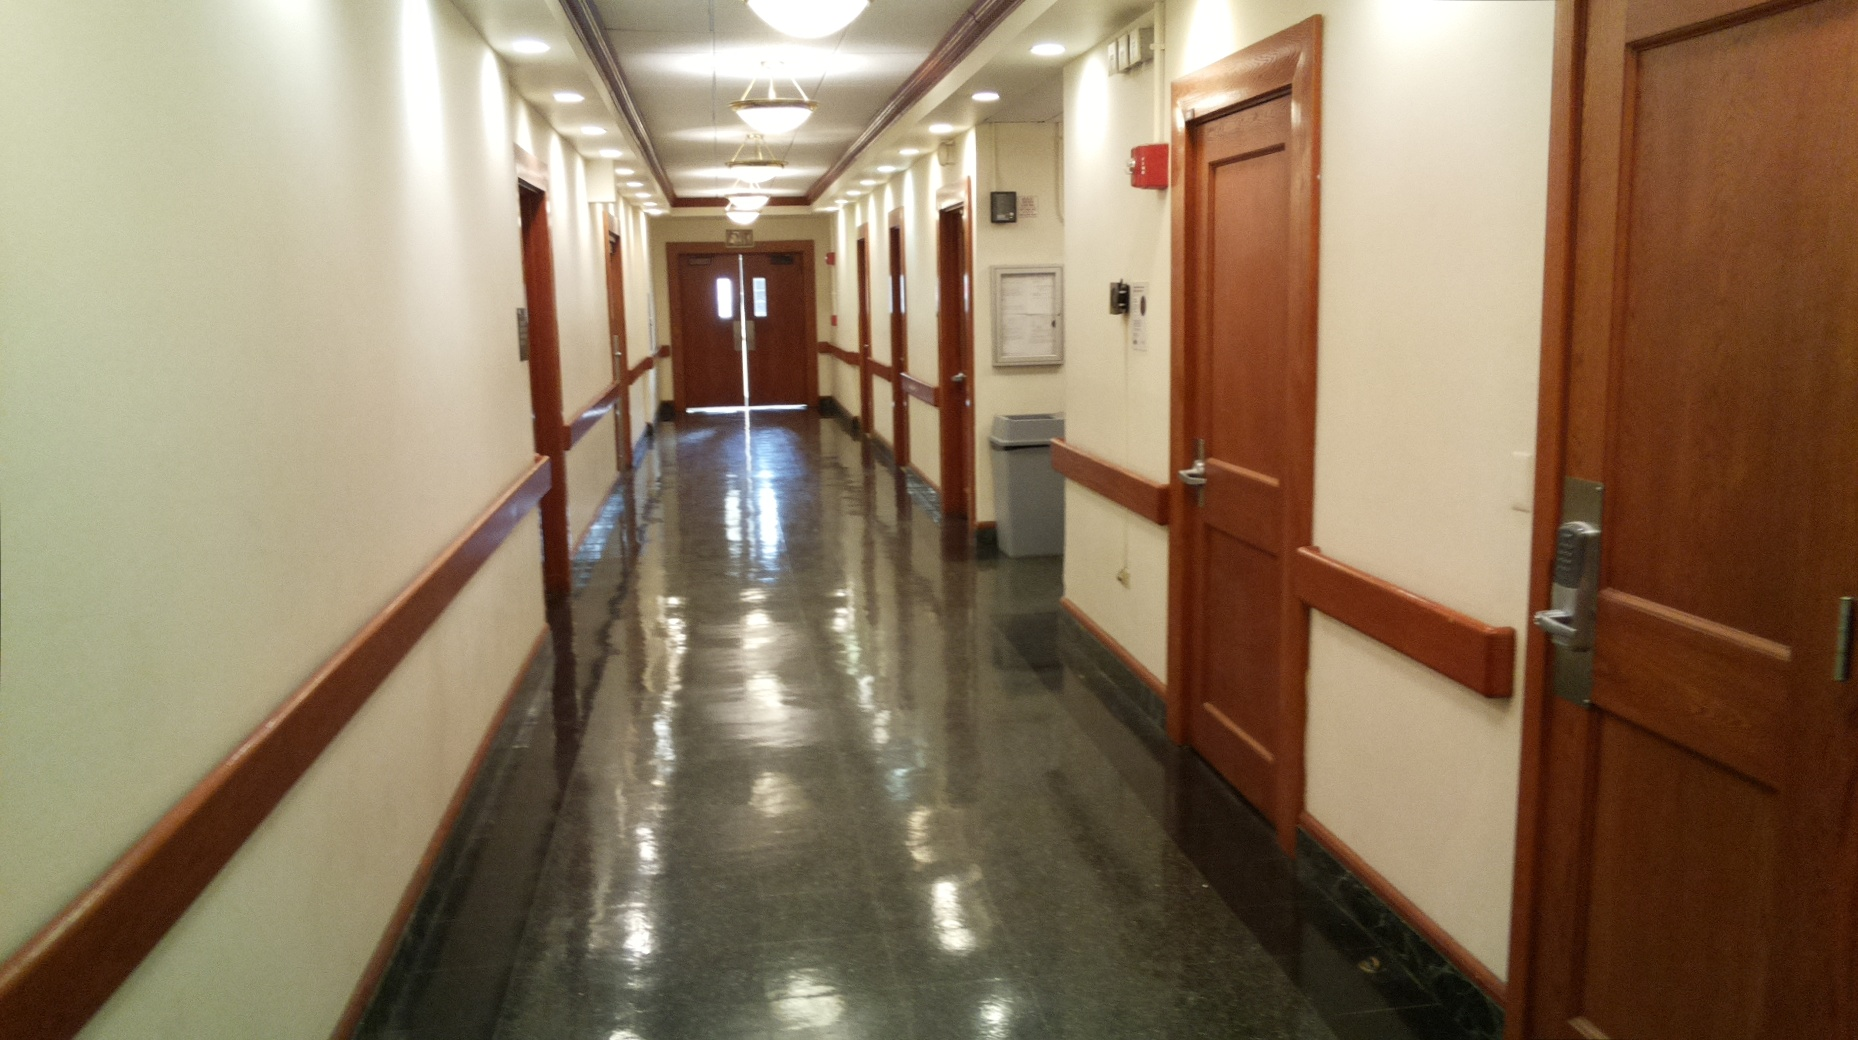exit sign: (724, 227, 755, 250)
